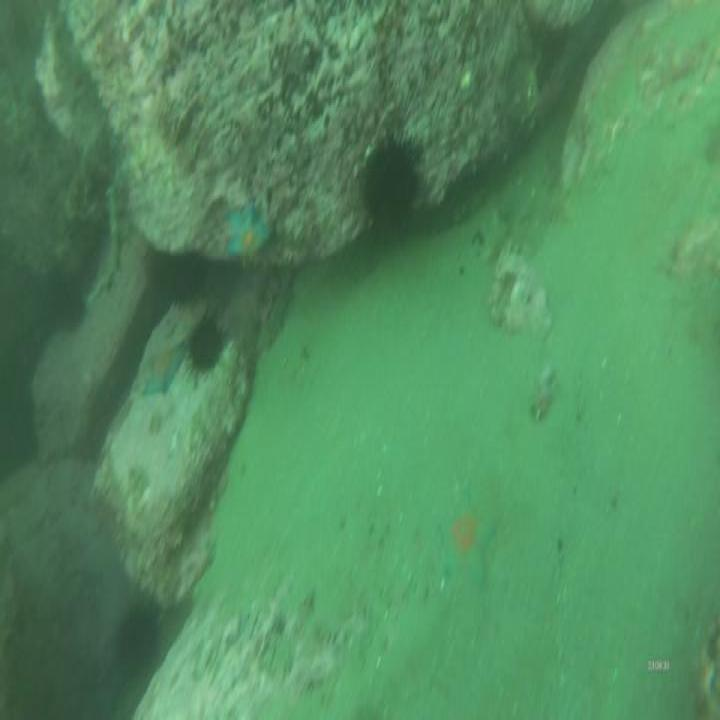echinus: (356, 126, 428, 247), (108, 596, 164, 679), (184, 306, 231, 386)
starfish: (434, 484, 495, 590), (223, 198, 273, 268), (141, 343, 182, 400)
